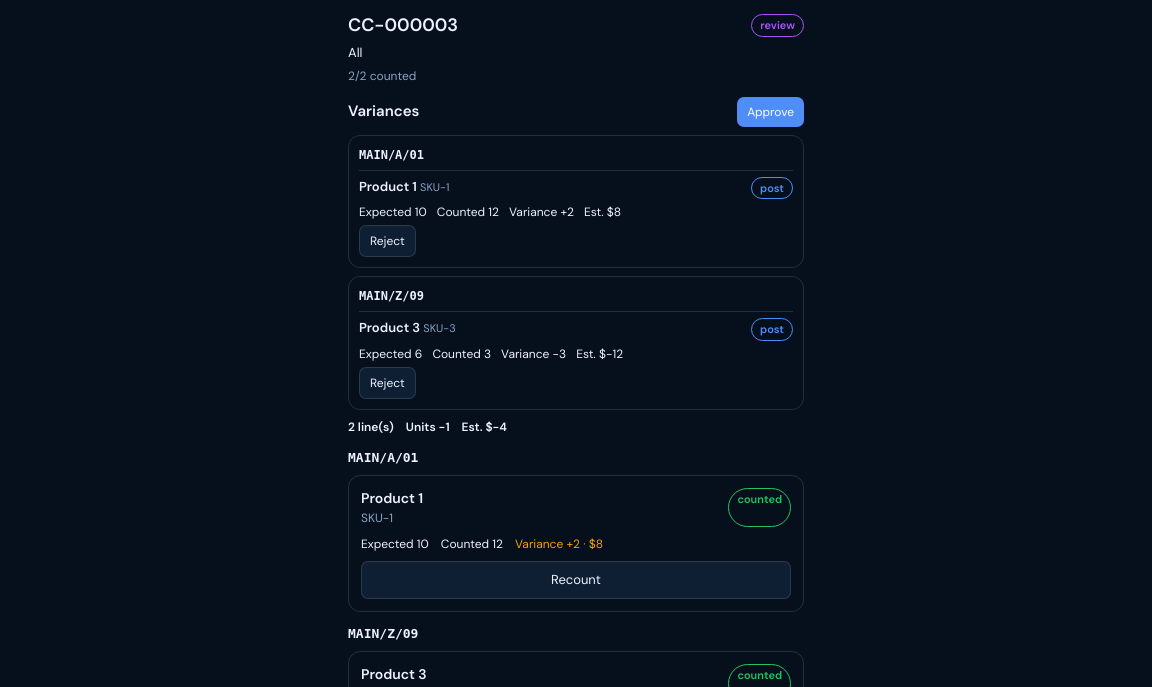
Scenario: Count review and approval › shows the 409 detail when the count was already approved
The image size is (1152, 687).
Click the button "Approve" at (771, 112), box left=737, top=96, right=804, bottom=126
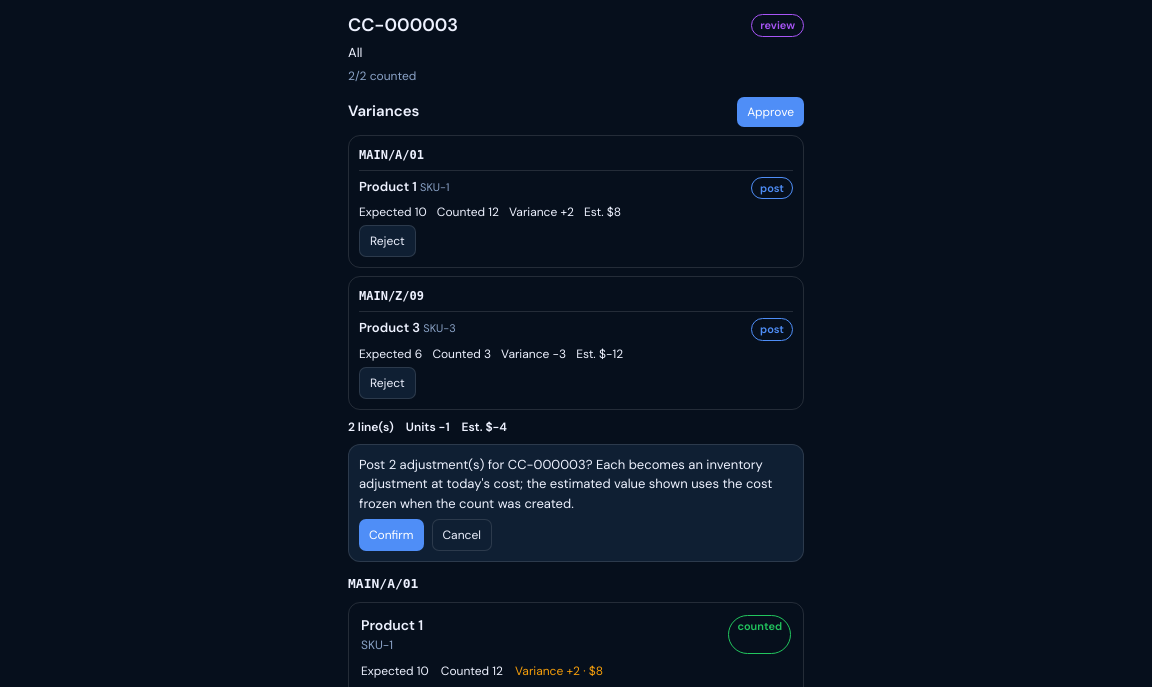
Click the button "Confirm" at (391, 535), box left=359, top=519, right=424, bottom=551
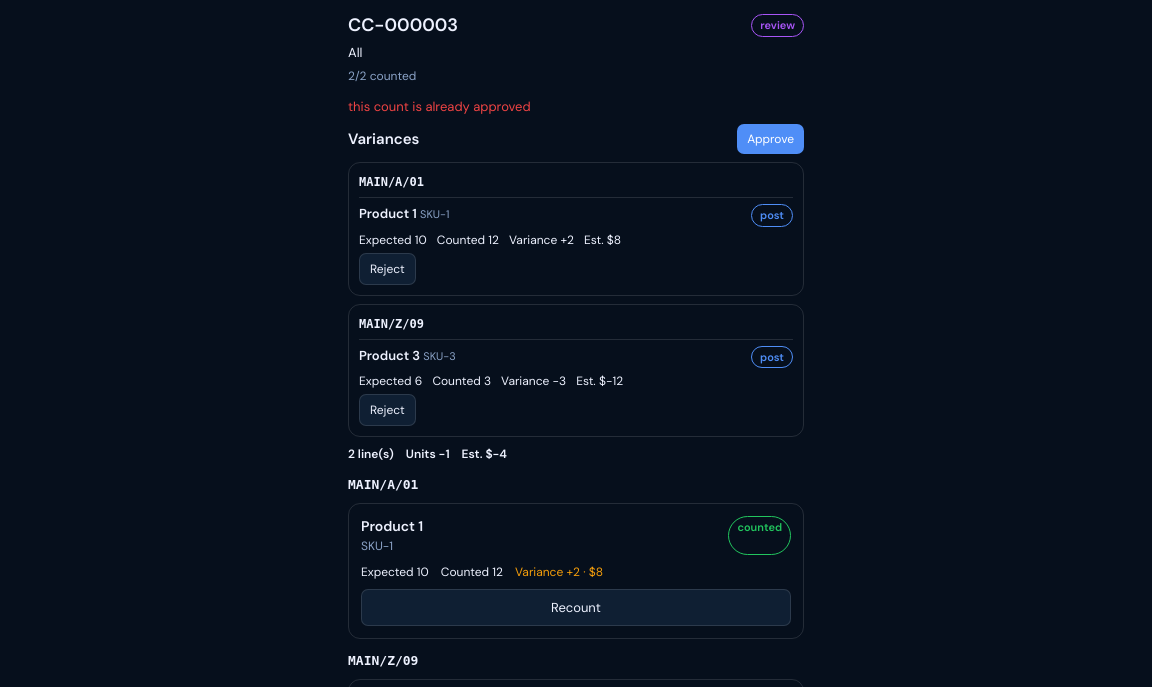
Expected: the message with test id "variances-error" reads "this count is already approved", left=348, top=98, right=531, bottom=114
